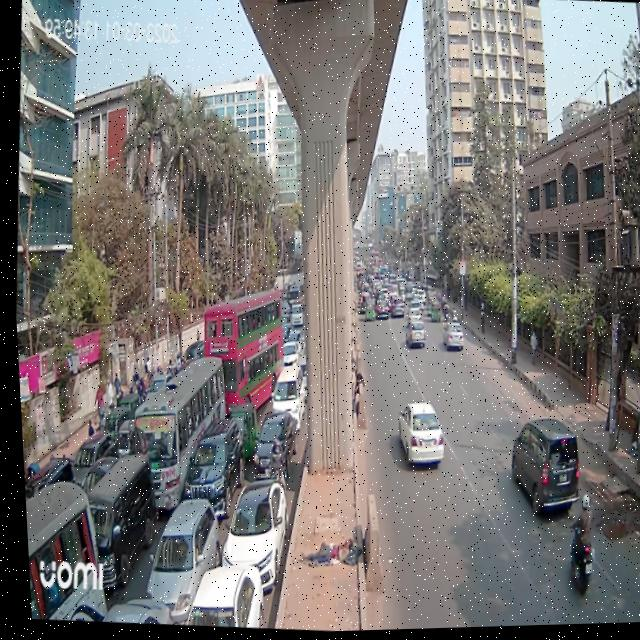cng: (220, 398, 258, 472), (359, 300, 376, 325), (424, 301, 438, 327)
